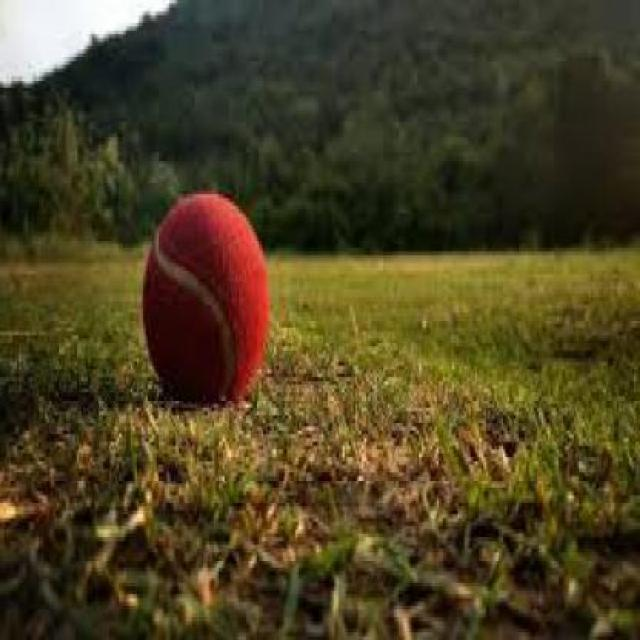ball: (111, 160, 314, 426)
